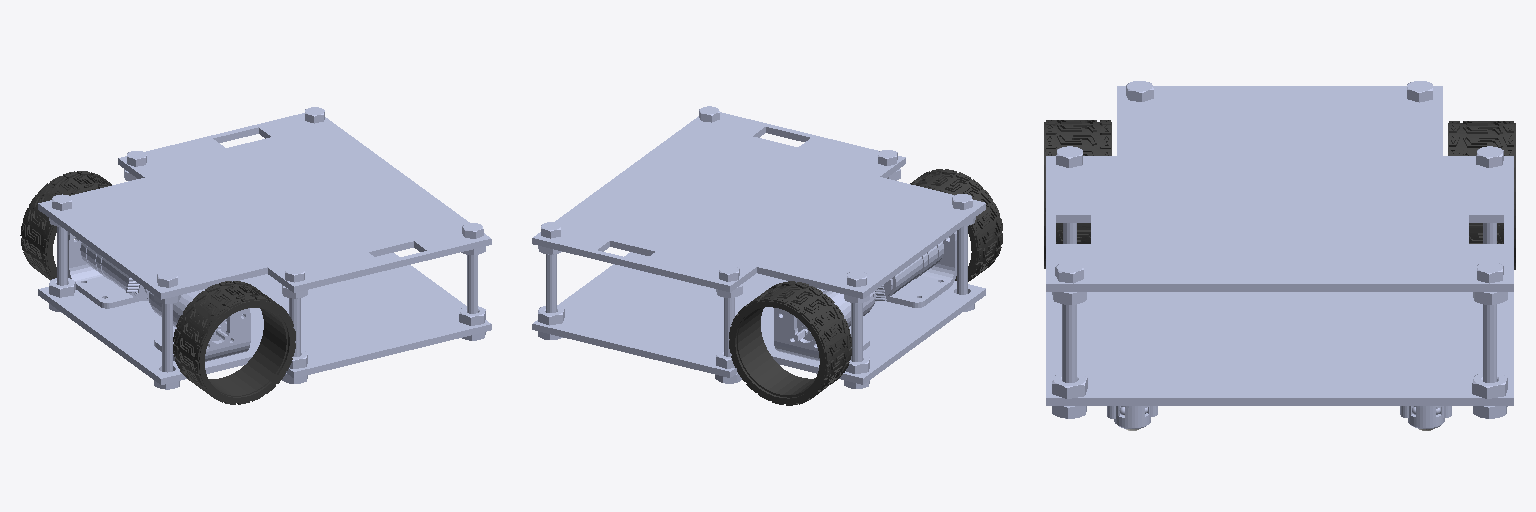
robot.urdf — testbot:
<?xml version="1.0" encoding="utf-8"?>
<!-- This URDF was automatically created by SolidWorks to URDF Exporter! Originally created by [author] ([email redacted]) 
     Commit Version: 1.5.1-0-g916b5db  Build Version: 1.5.7152.31018
     For more information, please see http://wiki.ros.org/sw_urdf_exporter -->
<robot
  name="testbot">
  <link name="base_footprint"/>
  <link
    name="base_link">
    <inertial>
      <origin
        xyz="-0.014394 0.000123 0.022784"
        rpy="0 0 0" />
      <mass
        value="0.38759" />
      <inertia
        ixx="0.00080164"
        ixy="-1.095E-07"
        ixz="-3.4377E-09"
        iyy="0.00088461"
        iyz="-1.6886E-08"
        izz="0.0016606" />
    </inertial>
    <visual>
      <origin
        xyz="0 0 0"
        rpy="0 0 0" />
      <geometry>
        <mesh
          filename="package://robot_controller_pkg/meshes/base_link.STL" />
      </geometry>
      <material
        name="">
        <color
          rgba="0.79216 0.81961 0.93333 1" />
      </material>
    </visual>
    <collision>
      <origin
        xyz="0 0 0"
        rpy="0 0 0" />
      <geometry>
        <mesh
          filename="package://robot_controller_pkg/meshes/base_link.STL" />
      </geometry>
    </collision>
  </link>

  <joint name="base_link_joint" type="fixed">
    <parent link="base_footprint"/>
    <child link="base_link"/>
    <origin xyz="0.0 0 0.0"/>
  </joint>

  <link
    name="left_wheel_link">
    <inertial>
      <origin
        xyz="-0.0010216 0.00096611 -0.006182"
        rpy="0 0 0" />
      <mass
        value="0.025463" />
      <inertia
        ixx="1.291E-05"
        ixy="-1.7604E-08"
        ixz="-3.285E-10"
        iyy="1.2908E-05"
        iyz="3.1065E-10"
        izz="2.226E-05" />
    </inertial>
    <visual>
      <origin
        xyz="0 0 0"
        rpy="0 0 0" />
      <geometry>
        <mesh
          filename="package://robot_controller_pkg/meshes/left_wheel_link.STL" />
      </geometry>
      <material
        name="">
        <color
          rgba="0.29804 0.29804 0.29804 1" />
      </material>
    </visual>
    <collision>
      <origin
        xyz="0 0 0"
        rpy="0 0 0" />
      <geometry>
        <mesh
          filename="package://robot_controller_pkg/meshes/left_wheel_link.STL" />
      </geometry>
    </collision>
  </link>
  <joint
    name="left_wheel_joint"
    type="continuous">
    <origin
      xyz="-0.069121 0.09255 0.019945"
      rpy="-1.5708 0 0" />
    <parent
      link="base_link" />
    <child
      link="left_wheel_link" />
    <axis
      xyz="0 0 1" />
    <limit
      effort="0.637"
      velocity="65" />
    <dynamics
      damping="0.4"
      friction="0.8" />
  </joint>
  <link
    name="right_wheel_link">
    <inertial>
      <origin
        xyz="0.00050279 -0.0013131 0.006182"
        rpy="0 0 0" />
      <mass
        value="0.025463" />
      <inertia
        ixx="1.2896E-05"
        ixy="-1.1776E-08"
        ixz="-1.6167E-10"
        iyy="1.2922E-05"
        iyz="4.2223E-10"
        izz="2.226E-05" />
    </inertial>
    <visual>
      <origin
        xyz="0 0 0"
        rpy="0 0 0" />
      <geometry>
        <mesh
          filename="package://robot_controller_pkg/meshes/right_wheel_link.STL" />
      </geometry>
      <material
        name="">
        <color
          rgba="0.29804 0.29804 0.29804 1" />
      </material>
    </visual>
    <collision>
      <origin
        xyz="0 0 0"
        rpy="0 0 0" />
      <geometry>
        <mesh
          filename="package://robot_controller_pkg/meshes/right_wheel_link.STL" />
      </geometry>
    </collision>
  </link>
  <joint
    name="right_wheel_joint"
    type="continuous">
    <origin
      xyz="-0.069121 -0.09255 0.019945"
      rpy="-1.5708 0 0" />
    <parent
      link="base_link" />
    <child
      link="right_wheel_link" />
    <axis
      xyz="0 0 -1" />
    <limit
      effort="0.637"
      velocity="65" />
    <dynamics
      damping="0.4"
      friction="0.8" />
  </joint>
  <link
    name="left_caster_wheel_link">
    <inertial>
      <origin
        xyz="7.9353E-14 -9.5125E-14 0"
        rpy="0 0 0" />
      <mass
        value="0.00090478" />
      <inertia
        ixx="1.3029E-08"
        ixy="1.9387E-26"
        ixz="-3.9887E-25"
        iyy="1.3029E-08"
        iyz="-4.1636E-27"
        izz="1.3029E-08" />
    </inertial>
    <visual>
      <origin
        xyz="0 0 0"
        rpy="0 0 0" />
      <geometry>
        <mesh
          filename="package://robot_controller_pkg/meshes/left_caster_wheel_link.STL" />
      </geometry>
      <material
        name="">
        <color
          rgba="0.74118 0.73333 0.72549 1" />
      </material>
    </visual>
    <collision>
      <origin
        xyz="0 0 0"
        rpy="0 0 0" />
      <geometry>
        <mesh
          filename="package://robot_controller_pkg/meshes/left_caster_wheel_link.STL" />
      </geometry>
    </collision>
  </link>
  <joint
    name="left_caster_wheel_joint"
    type="fixed">
    <origin
      xyz="0.084184 0.06259 -0.013"
      rpy="0 0 0" />
    <parent
      link="base_link" />
    <child
      link="left_caster_wheel_link" />
    <axis
      xyz="0 0 0" />
    <dynamics
      damping="0.3"
      friction="0.3" />
  </joint>
  <link
    name="right_caster_wheel_link">
    <inertial>
      <origin
        xyz="0 0 0"
        rpy="0 0 0" />
      <mass
        value="0" />
      <inertia
        ixx="0"
        ixy="0"
        ixz="0"
        iyy="0"
        iyz="0"
        izz="0" />
    </inertial>
    <visual>
      <origin
        xyz="0 0 0"
        rpy="0 0 0" />
      <geometry>
        <mesh
          filename="package://robot_controller_pkg/meshes/right_caster_wheel_link.STL" />
      </geometry>
      <material
        name="">
        <color
          rgba="1 1 1 1" />
      </material>
    </visual>
    <collision>
      <origin
        xyz="0 0 0"
        rpy="0 0 0" />
      <geometry>
        <mesh
          filename="package://robot_controller_pkg/meshes/right_caster_wheel_link.STL" />
      </geometry>
    </collision>
  </link>
  <joint
    name="right_caster_wheel_joint"
    type="fixed">
    <origin
      xyz="0.084184 -0.063094 -0.013"
      rpy="0 0 0" />
    <parent
      link="base_link" />
    <child
      link="right_caster_wheel_link" />
    <axis
      xyz="0 0 0" />
    <dynamics
      damping="0.3"
      friction="0.3" />
  </joint>

  
  <transmission name="left_wheel_transmission">
    <type>transmission_interface/SimpleTransmission</type>
    <joint name="left_wheel_joint">
        <hardwareInterface>hardware_interface/VelocityJointInterface</hardwareInterface>
    </joint>
    <actuator name="left_wheel_actuator">
        <hardwareInterface>hardware_interface/VelocityJointInterface</hardwareInterface>
        <mechanicalReduction>1</mechanicalReduction>
    </actuator>
  </transmission>

  <transmission name="right_wheel_transmission">
    <type>transmission_interface/SimpleTransmission</type>
    <joint name="right_wheel_joint">
        <hardwareInterface>hardware_interface/VelocityJointInterface</hardwareInterface>
    </joint>
    <actuator name="right_wheel_actuator">
        <hardwareInterface>hardware_interface/VelocityJointInterface</hardwareInterface>
        <mechanicalReduction>1</mechanicalReduction>
    </actuator>
  </transmission>

  <gazebo>
  <plugin name="gazebo_ros_control" filename="libgazebo_ros_control.so">
    <robotNamespace>/testbot</robotNamespace>
    <legacyModeNS>true</legacyModeNS>
  </plugin>
  </gazebo>

  <gazebo>
    <plugin filename="libgazebo_ros_diff_drive.so" name="differential_drive_controller">
      <legacyMode>false</legacyMode>
      <robotNamespace>/testbot</robotNamespace>
      <alwaysOn>true</alwaysOn>
      <updateRate>20</updateRate>
      <leftJoint>left_wheel_joint</leftJoint>
      <rightJoint>right_wheel_joint</rightJoint>
      <wheelSeparation>0.173</wheelSeparation>
      <wheelDiameter>0.065</wheelDiameter>
      <torque>20</torque>
      <commandTopic>/testbot/cmd_vel</commandTopic>
      <odometryTopic>/testbot/odom</odometryTopic>
      <odometryFrame>/testbot/odom</odometryFrame>
      <robotBaseFrame>base_link</robotBaseFrame>
    </plugin>
  </gazebo>
</robot>

--- Render facts (derived) ---
The picture shows the robot from 3 angles, left to right: view 1: azimuth 30°, elevation 25°; view 2: azimuth 150°, elevation 25°; view 3: azimuth 270°, elevation 25°; orthographic projection.
Robot: testbot — 6 links, 5 joints (2 continuous, 3 fixed); root link base_footprint; default pose: every joint at zero.
Visible links, largest first — view 1: base_link, right_wheel_link, left_wheel_link; view 2: base_link, left_wheel_link, right_wheel_link; view 3: base_link, right_wheel_link, left_wheel_link.
Boxes of the visible links, x1,y1,x2,y2 form: base_link: (38,107,491,389); right_wheel_link: (173,281,295,404); left_wheel_link: (20,171,111,279); base_link: (532,106,985,388); left_wheel_link: (729,281,851,405); right_wheel_link: (910,169,1002,281); base_link: (1046,81,1513,428); right_wheel_link: (1044,120,1111,268); left_wheel_link: (1448,121,1515,269).
Size in the robot's own frame: 0.2017 by 0.2017 by 0.0775 metres.
Meshes: 5 distinct files referenced, 5 mesh visuals loaded (5 binary STL).